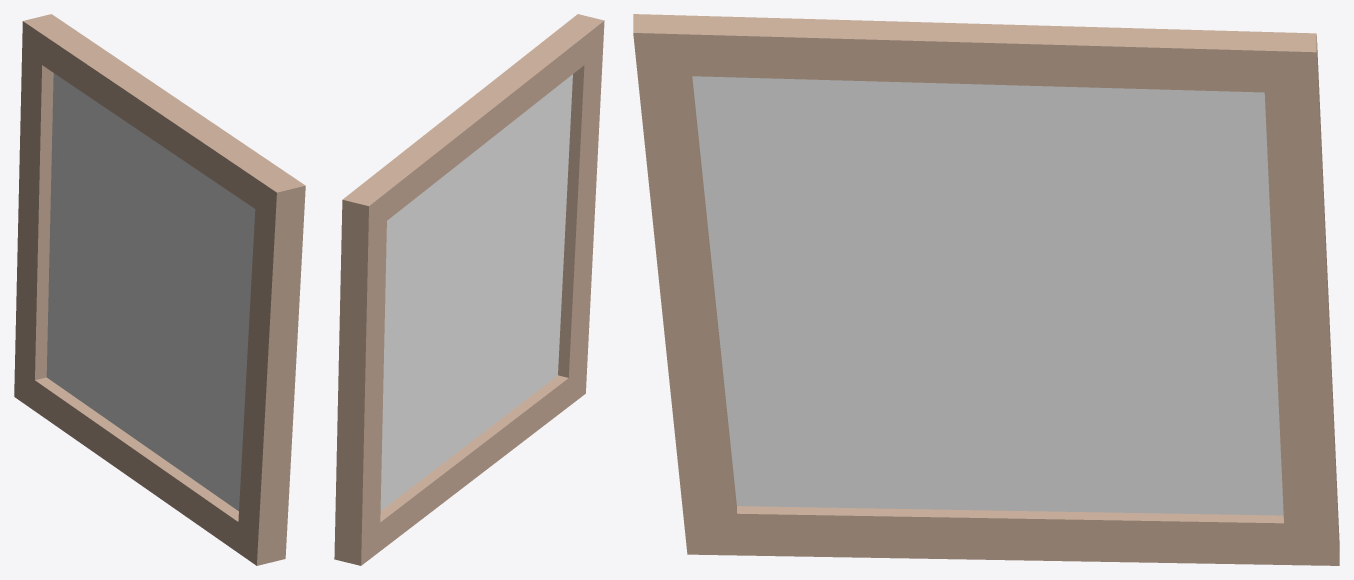
The model's file is frame.fbx.
The picture shows the model from 3 angles, left to right: view 1: azimuth 30°, elevation 25°; view 2: azimuth 150°, elevation 25°; view 3: azimuth 270°, elevation 25°; orthographic projection. The views are drawn at different scales.
Parts seen in each view (by area): view 1: Cube.002; view 2: Cube.002; view 3: Cube.002.
Boxes of the visible parts, x1,y1,x2,y2 form: Cube.002: [14, 14, 305, 565]; Cube.002: [334, 14, 604, 565]; Cube.002: [633, 14, 1339, 565].
Size of the model in its own units: 15.16 by 199 by 240.
